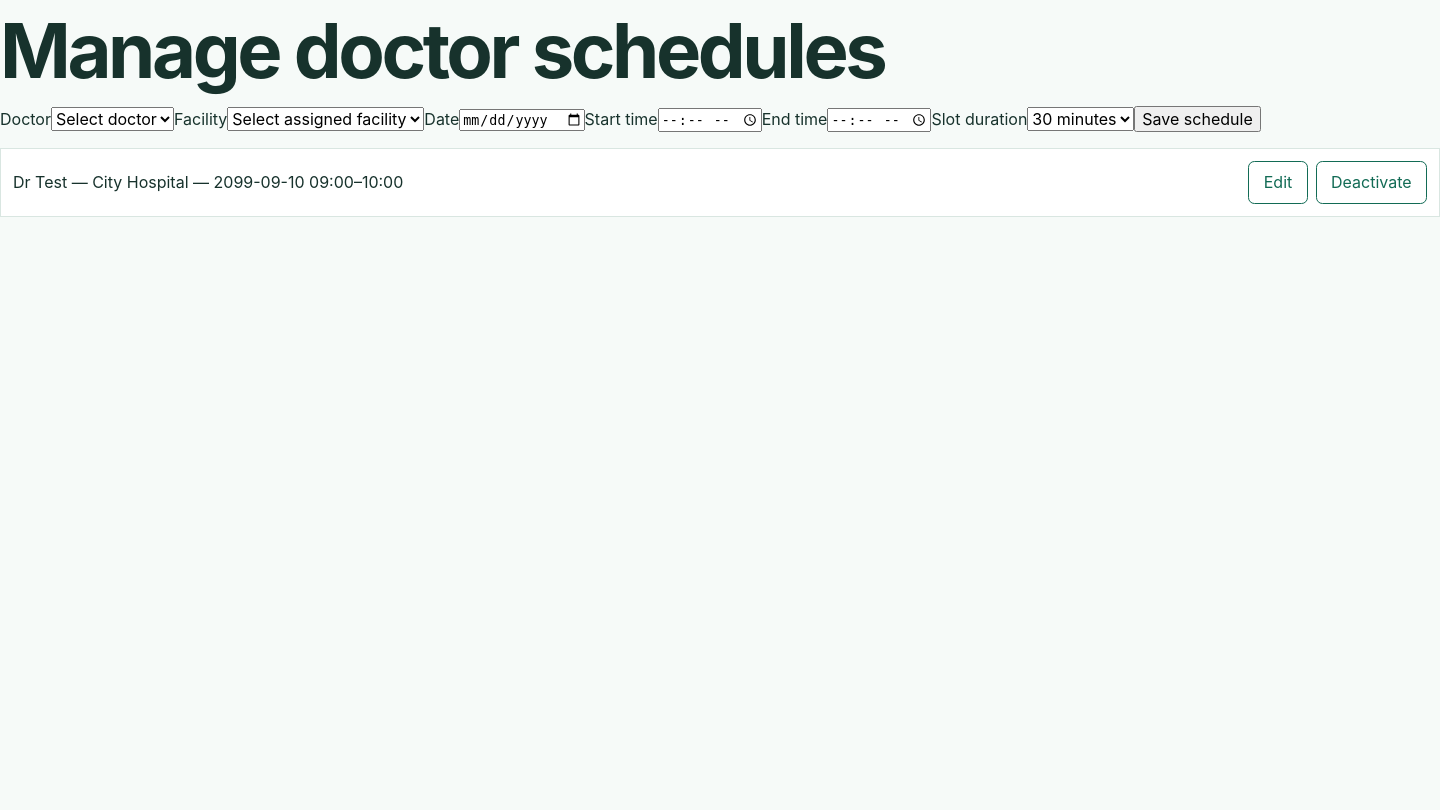
admin schedule surfaces overlap and confirmation UX
Expected: the text "Dr Test — City Hospital — 2099-09-10 09:00–10:00" is shown, [13,172,403,192]
Click the button "Deactivate" at (1371, 182), box [1316,161,1427,204]
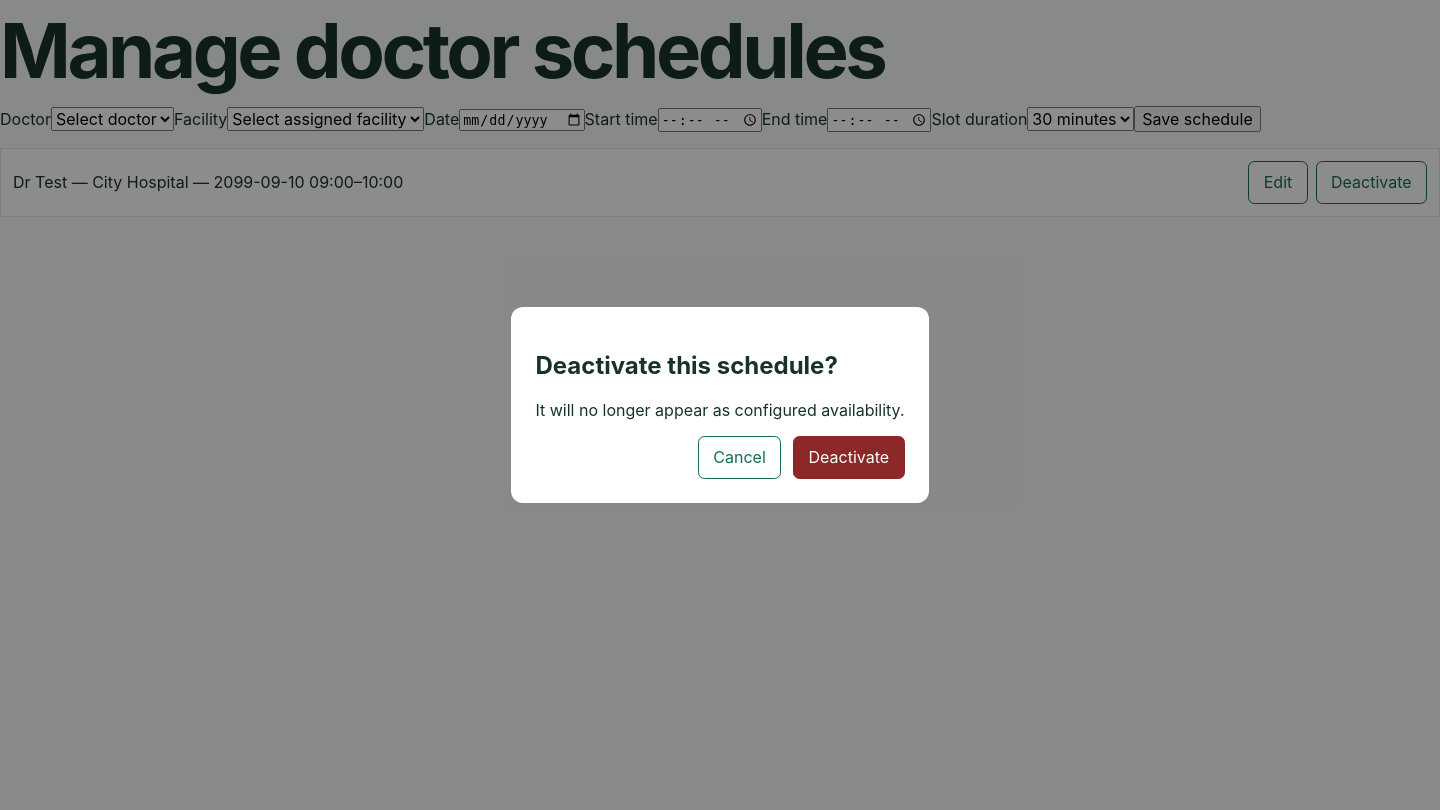
Expected: the dialog shows "Deactivate this schedule?", [536,351,838,380]
